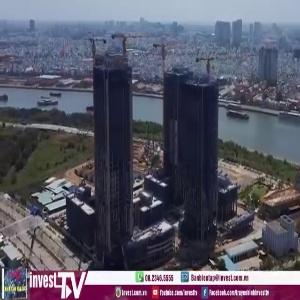drone: (101, 97, 220, 216)
